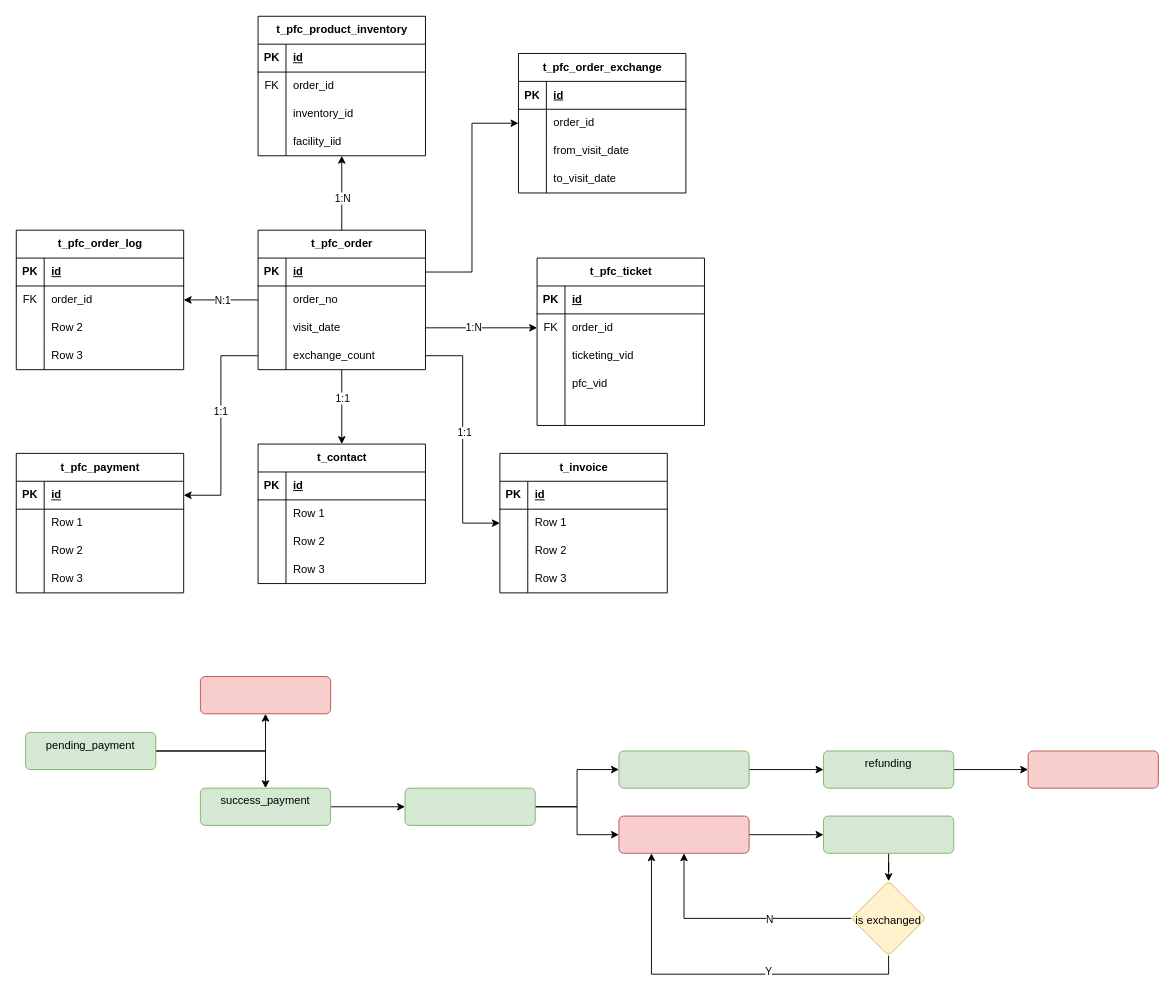
The diagram is 1175 pixels wide and 998 high, and some of its shapes have lost their labels. The shapes that lost their labels are listed below. From the top down, each one's centre as x and y in pixels, then its label:
At [265,695]: "expired_payment".
At [683,769]: "failed".
At [1092,769]: "refunded".
At [469,806]: "booking".
At [683,834]: "booked".
At [888,834]: "exchanging".
